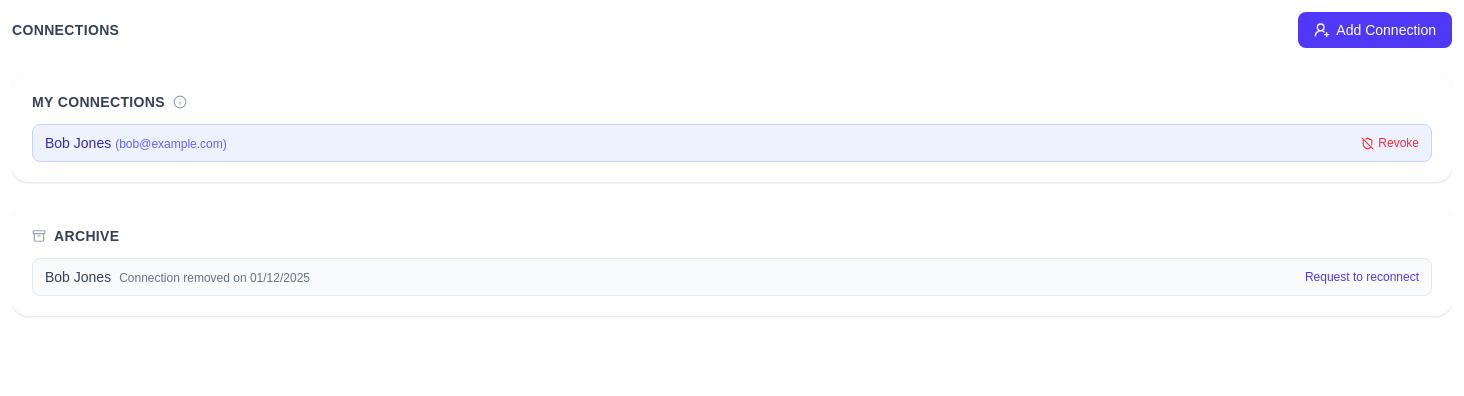
Test: ConnectionsPanel — revoked connections archive › shows default error when sendPinRequest fails with no error string
This screenshot has width=1464, height=396.
Click the button with aria-label "request to reconnect with bob".
click(1362, 277)  # box top-left (1305, 269), bottom-right (1419, 285)
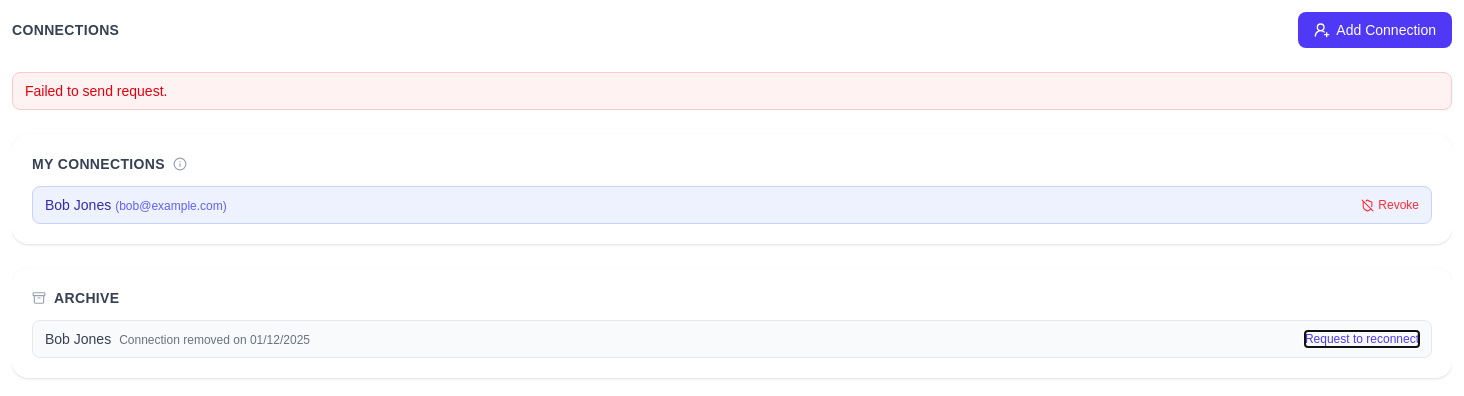
Check: the text "Failed to send request." is shown, box top-left (12, 72), bottom-right (1452, 110)
